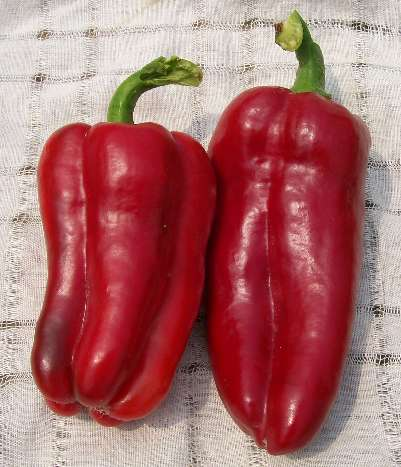capsicum: (205, 9, 372, 456), (28, 57, 219, 426)
